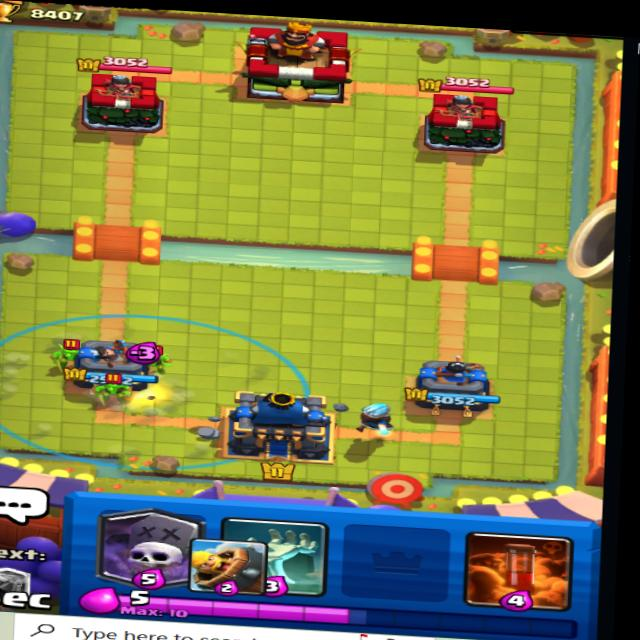Goblin: (94, 367, 135, 407), (49, 335, 86, 366), (131, 342, 166, 371)
